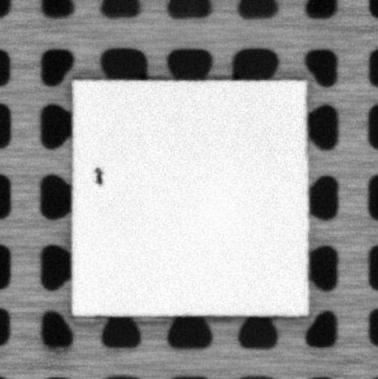DIE_INK: (92, 166, 104, 185)
